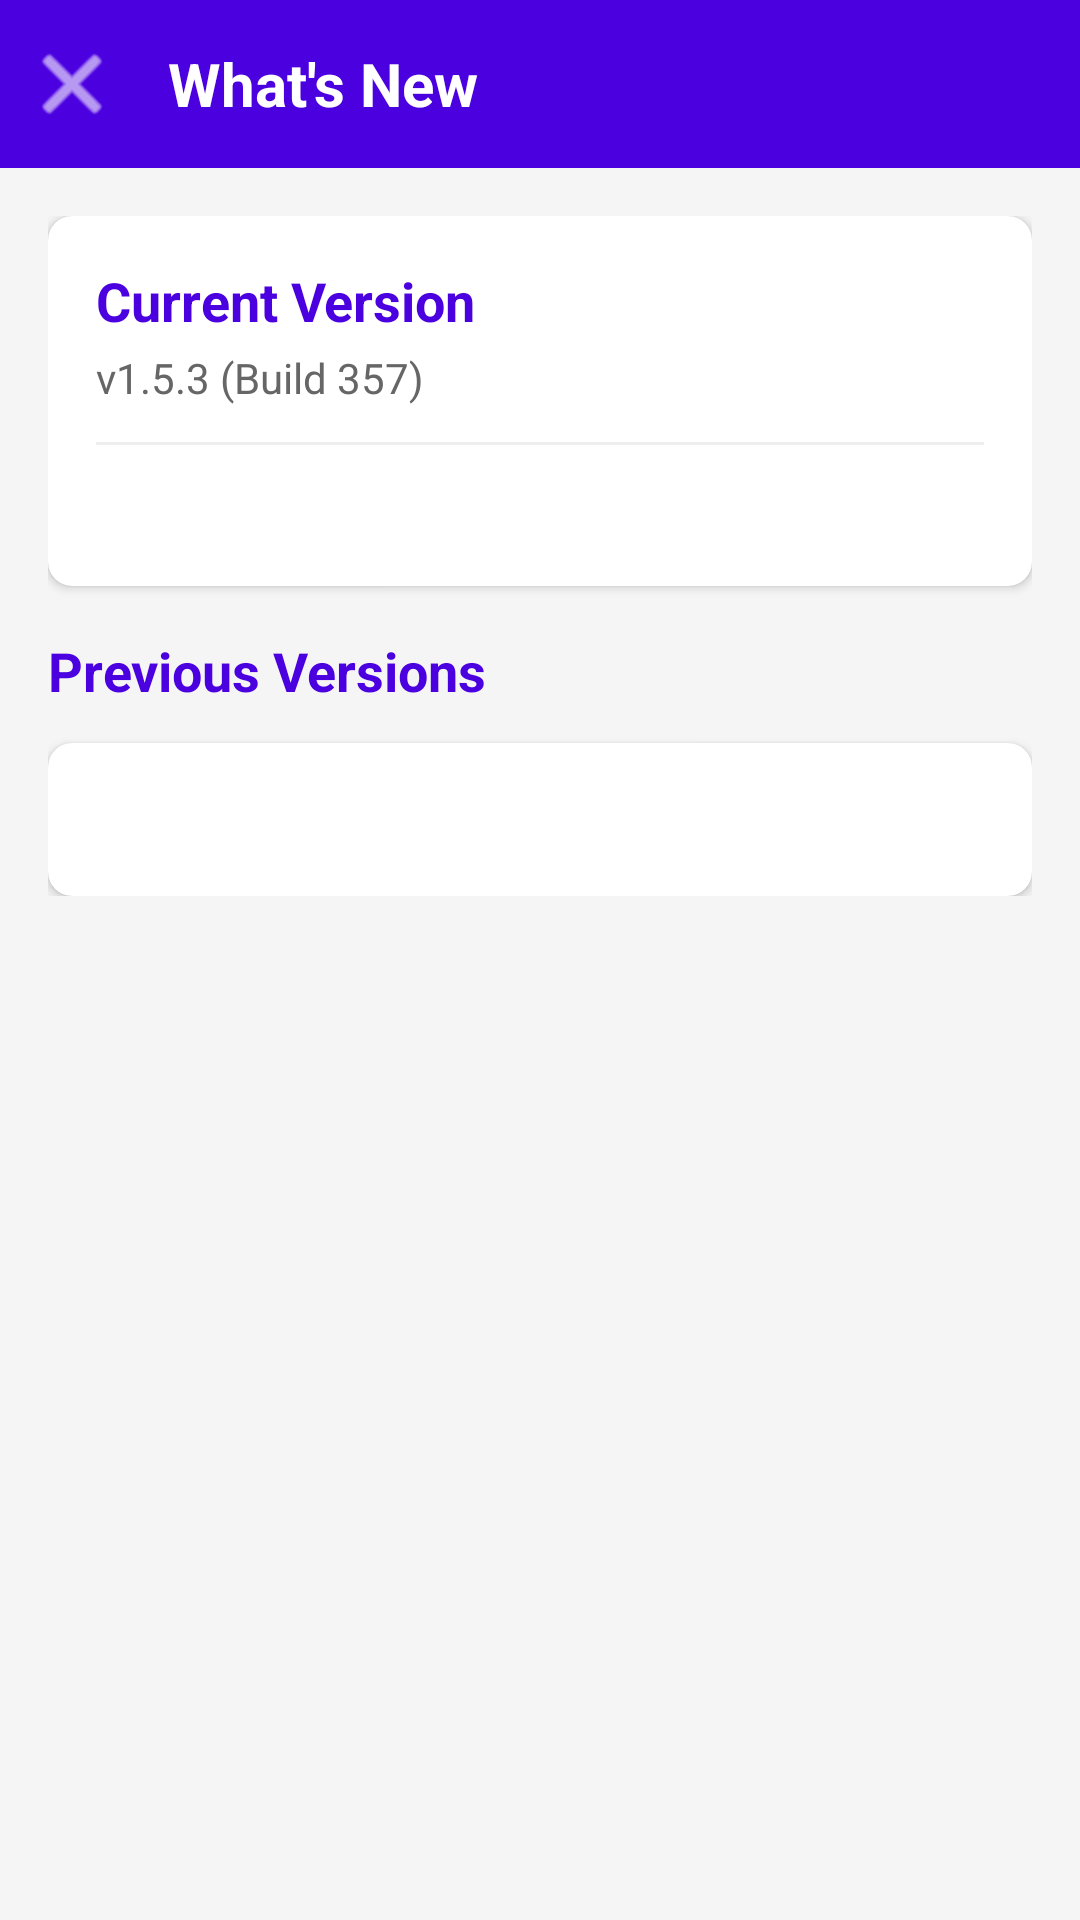

Point at icon controls on the screen. Image size 1080w x 1920h, points as (x=x, y=y).
Close: (x=72, y=84)
